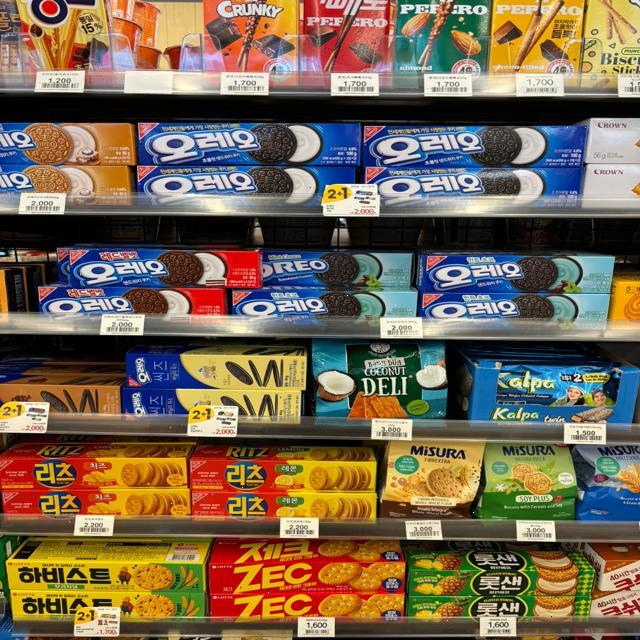product: (313, 340, 446, 428), (369, 123, 588, 168), (136, 120, 362, 162), (370, 164, 586, 206), (139, 164, 358, 205), (423, 288, 611, 335), (39, 283, 227, 327), (387, 438, 485, 522), (484, 439, 580, 521), (121, 392, 303, 434), (70, 250, 263, 289), (4, 492, 191, 532), (427, 252, 615, 291), (1, 454, 189, 492), (204, 562, 405, 597), (233, 287, 421, 324), (128, 353, 305, 392), (190, 491, 379, 527), (411, 564, 594, 600), (7, 562, 206, 594), (187, 459, 377, 492), (212, 595, 405, 625), (415, 596, 592, 623)
